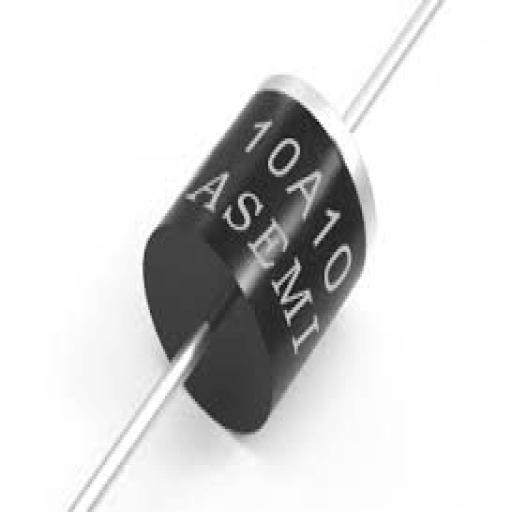DIODE: (110, 20, 506, 452)
